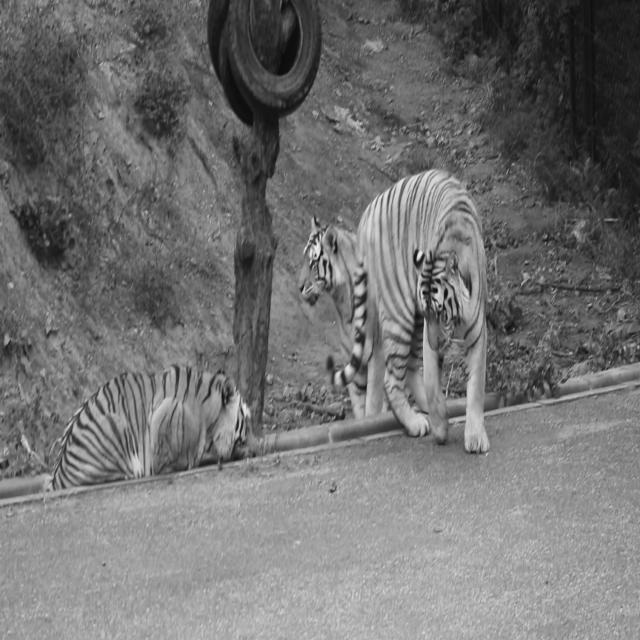Tiger: (298, 167, 491, 455), (44, 362, 255, 494)
